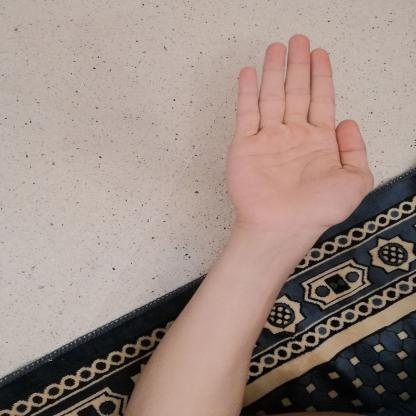SEEN: (219, 25, 384, 238)
